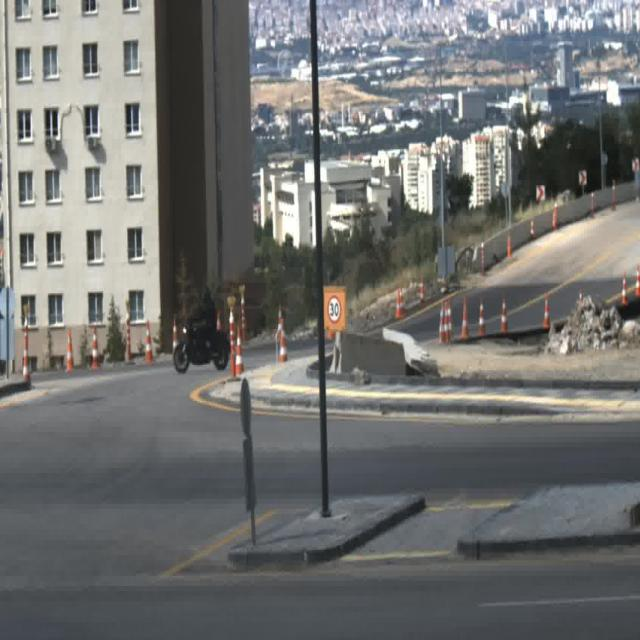Motorcycle: (173, 284, 229, 372)
